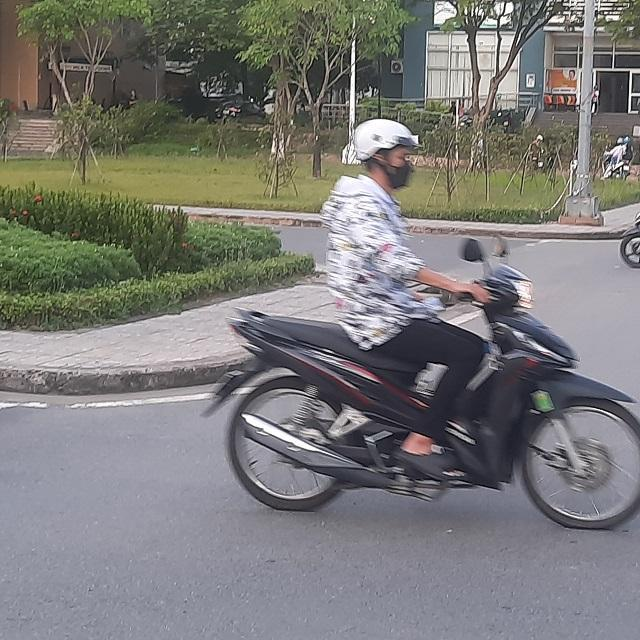Helmet: (354, 116, 418, 190)
